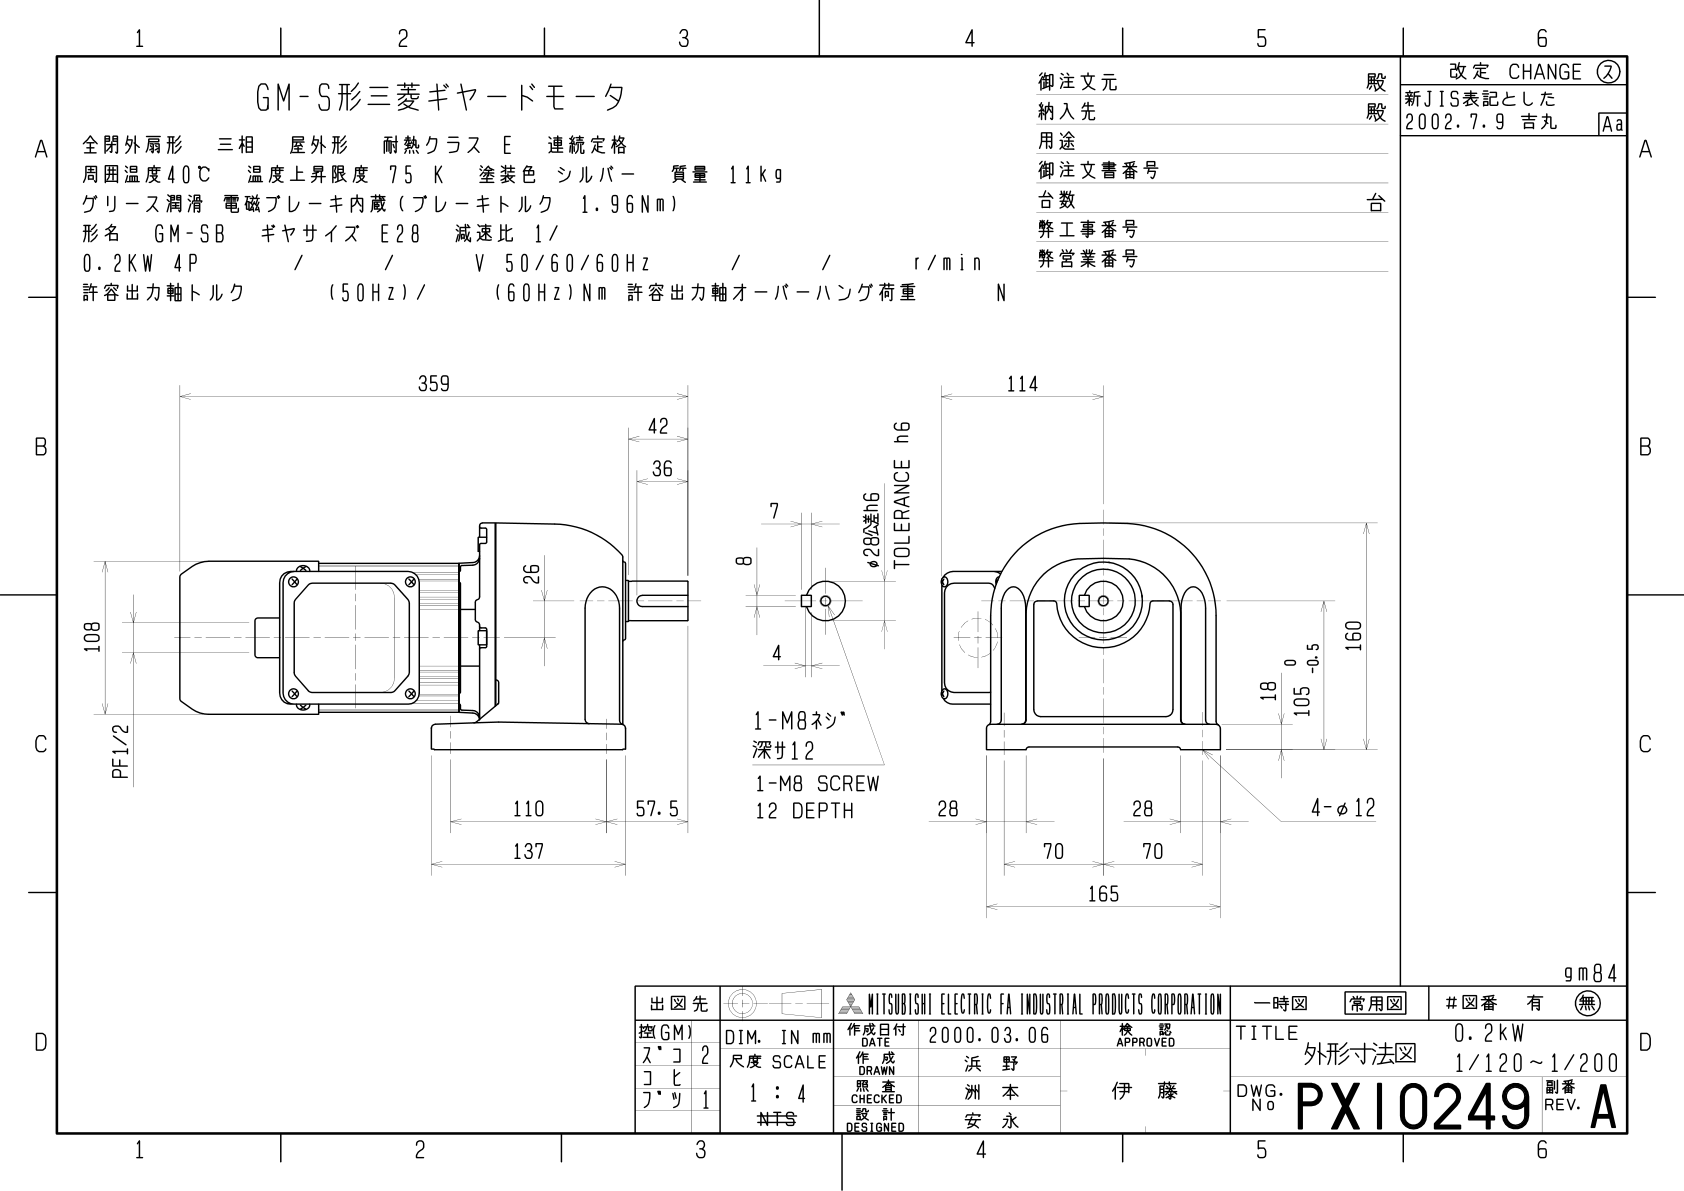GM_S_屋外＿三相_脚: (71, 345, 1386, 955)
